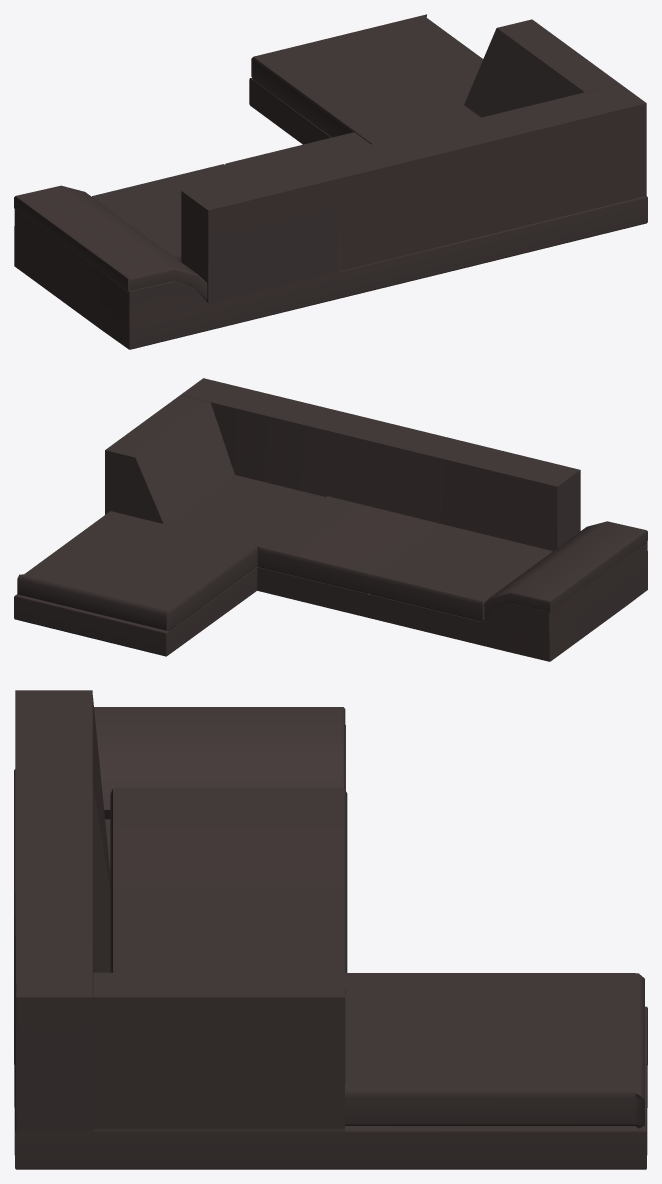
File: sofa_geo.fbx
The picture shows the model from 3 angles, top to bottom: view 1: azimuth 30°, elevation 25°; view 2: azimuth 150°, elevation 25°; view 3: azimuth 270°, elevation 25°; orthographic projection. The views are drawn at different scales.
Visible parts, largest first — view 1: sofa_geo; view 2: sofa_geo; view 3: sofa_geo.
Part boxes in pixels (left/top/right/bottom): sofa_geo: left=14, top=14, right=647, bottom=349; sofa_geo: left=14, top=378, right=647, bottom=661; sofa_geo: left=14, top=690, right=647, bottom=1169.
Bounding box in the file's own units: 4.23 × 0.9352 × 3.12.
1 material, 1 textured.
